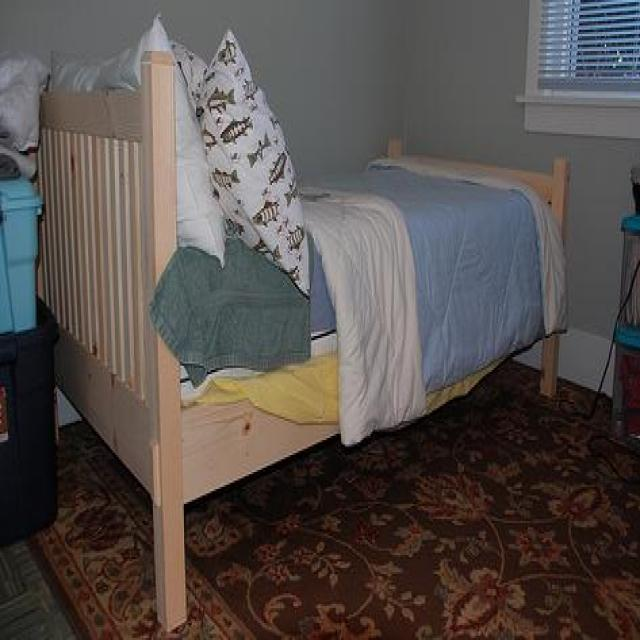bed: (15, 46, 573, 640)
